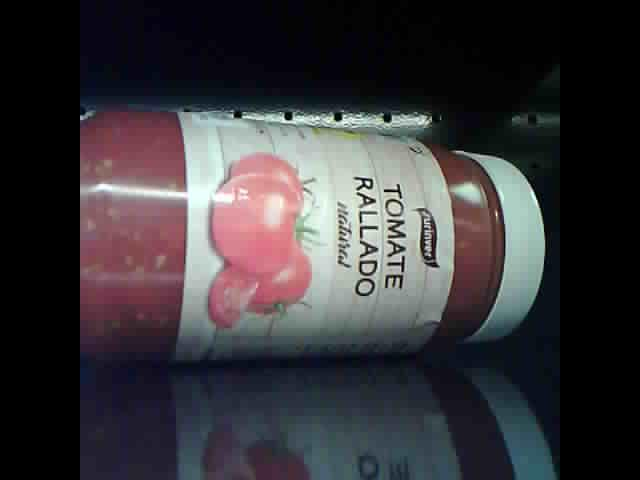tomate: (81, 112, 546, 360)
